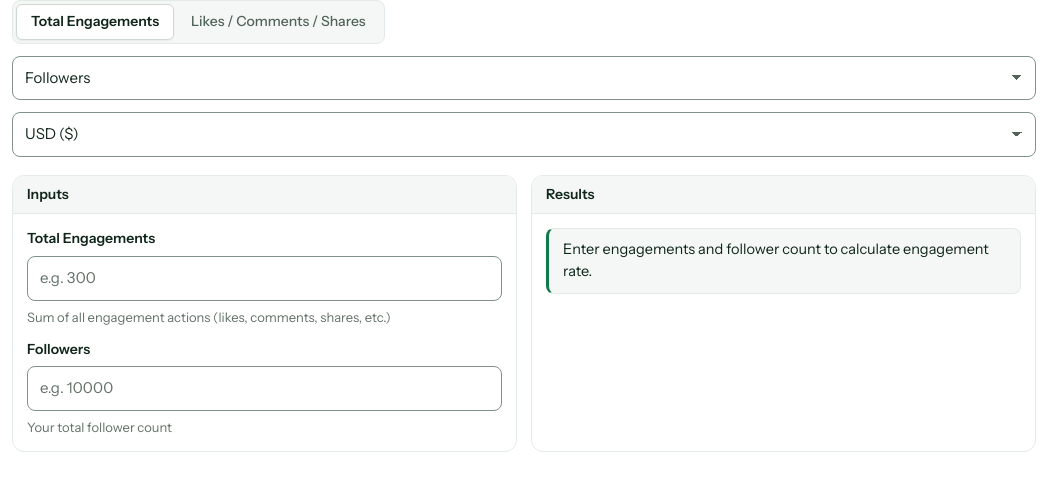
Scenario: EngagementRateCalculator › calculates rate in total mode: 300 engagements / 10000 followers = 3%
This screenshot has width=1048, height=494.
Type "300" into the number field with placeholder "e.g. 300" at (264, 278), box [27, 256, 502, 301]
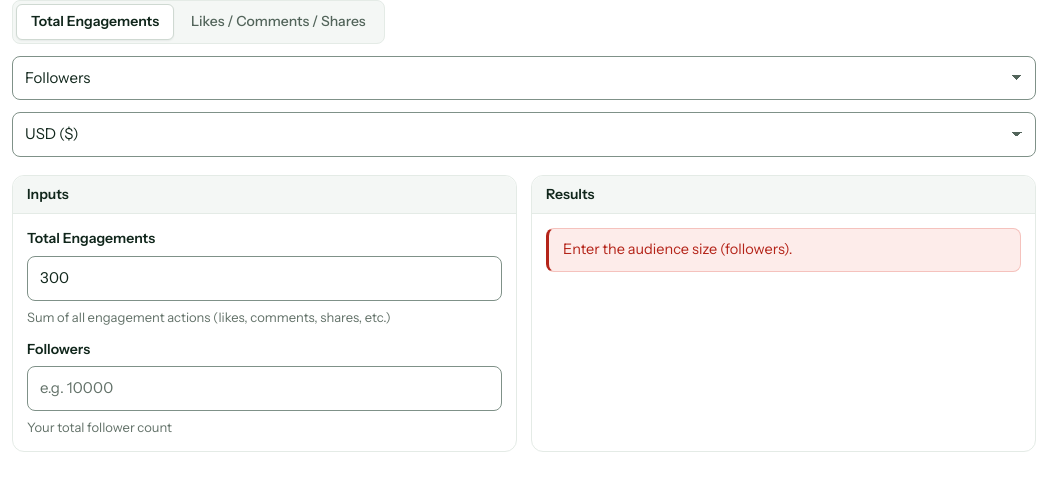
Type "10000" into the number field with placeholder "e.g. 10000" at (264, 389), box [27, 366, 502, 411]
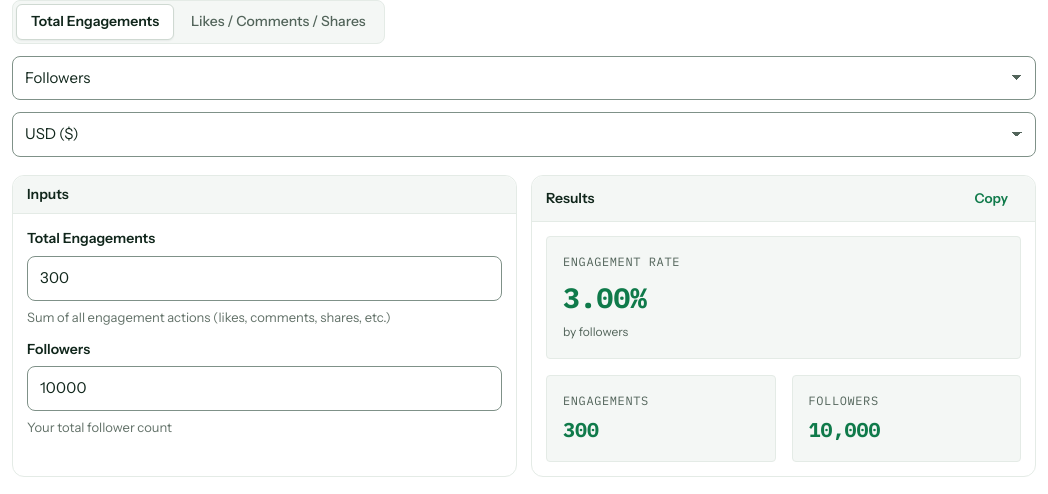
Now the text "3.00%" is shown, box [563, 279, 647, 316]
